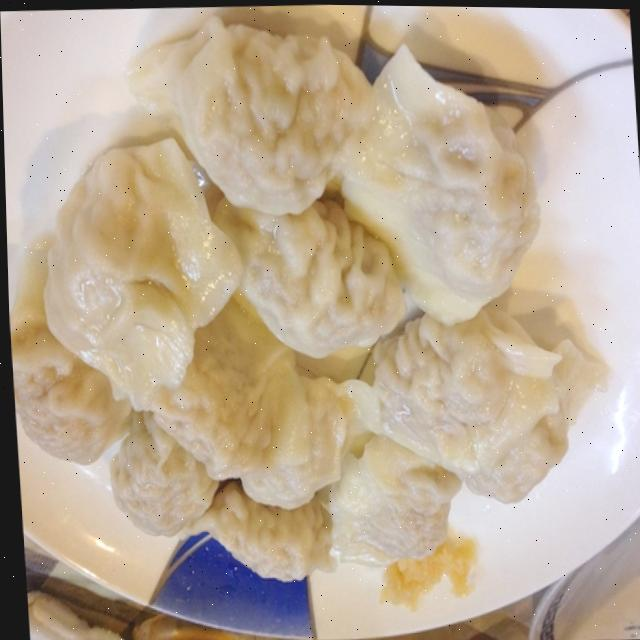带馅早点: (0, 7, 629, 631)
